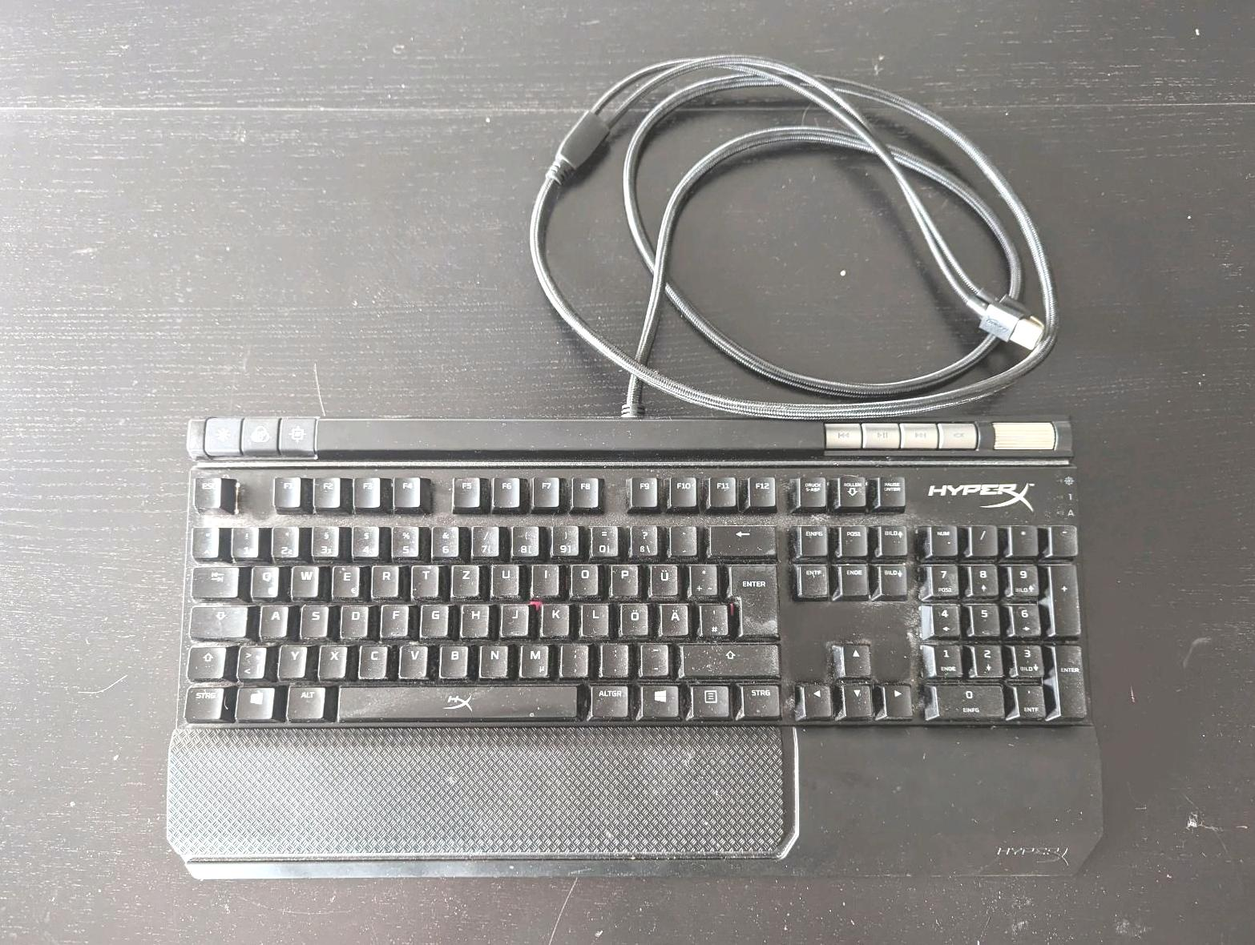0: (588, 521, 619, 556)
1: (230, 521, 259, 557)
2: (269, 521, 299, 557)
3: (309, 521, 339, 556)
4: (349, 521, 379, 555)
5: (389, 521, 420, 556)
6: (429, 521, 459, 556)
7: (470, 521, 499, 555)
8: (509, 521, 539, 557)
9: (549, 520, 579, 555)
a: (258, 601, 288, 636)
accent: (667, 521, 696, 554)
ae: (657, 600, 689, 635)
alt-left: (284, 682, 325, 718)
altgr-right: (587, 681, 629, 717)
b: (438, 641, 469, 676)
c: (357, 641, 388, 677)
caret: (191, 523, 219, 557)
comma: (559, 640, 588, 676)
d: (338, 601, 368, 637)
del: (706, 521, 776, 554)
e: (330, 561, 360, 596)
enter: (725, 559, 778, 635)
f: (379, 601, 409, 635)
g: (418, 601, 449, 635)
h: (458, 601, 489, 635)
hash: (697, 600, 727, 635)
i: (530, 561, 559, 594)
j: (498, 600, 529, 635)
k: (539, 600, 570, 635)
keyboard: (174, 458, 1093, 730)
l: (579, 600, 609, 635)
less: (235, 641, 266, 677)
m: (518, 641, 550, 675)
minus: (637, 640, 668, 674)
n: (478, 641, 509, 675)
o: (568, 560, 599, 595)
oe: (617, 600, 649, 635)
p: (607, 561, 638, 595)
plus: (687, 560, 717, 595)
point: (599, 639, 629, 675)
q: (248, 562, 280, 597)
r: (369, 561, 400, 596)
s: (299, 601, 328, 636)
shift-left: (185, 643, 225, 677)
shift-lock: (188, 602, 248, 637)
shift-right: (678, 640, 779, 675)
space: (334, 681, 580, 719)
ss: (627, 521, 658, 556)
strg-left: (184, 683, 224, 718)
strg-right: (738, 681, 781, 717)
t: (410, 561, 438, 596)
tab: (191, 562, 238, 596)
u: (490, 560, 519, 595)
ue: (646, 561, 679, 596)
v: (397, 641, 428, 675)
w: (289, 561, 319, 596)
x: (317, 641, 347, 677)
y: (276, 641, 307, 677)
z: (449, 561, 479, 596)
